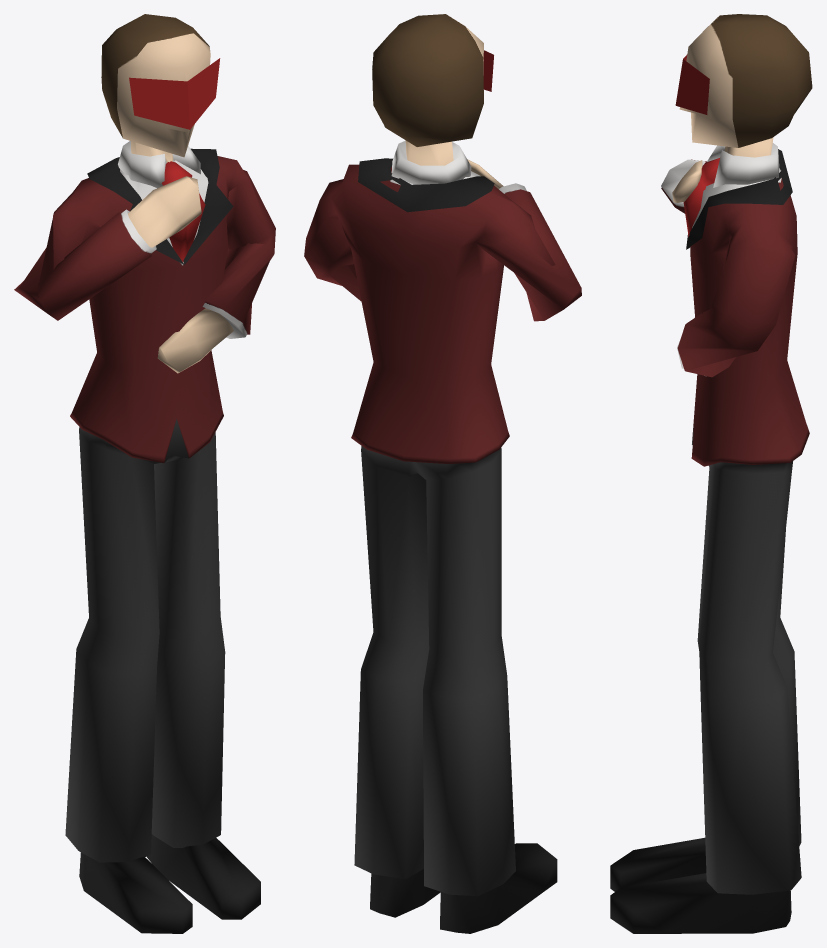
File: Character5.fbx
The picture shows the model from 3 angles, left to right: view 1: azimuth 30°, elevation 25°; view 2: azimuth 150°, elevation 25°; view 3: azimuth 270°, elevation 25°; orthographic projection. The views are drawn at different scales.
Visible parts, largest first — view 1: CHARA_Base.005, CHARA_Base_Head.005, CHARA_Base_Mask.005; view 2: CHARA_Base.005, CHARA_Base_Head.005; view 3: CHARA_Base.005, CHARA_Base_Head.005, CHARA_Base_Mask.005.
Boxes of the visible parts, x1=… form: CHARA_Base.005: x1=14, y1=141, x2=275, y2=933; CHARA_Base_Head.005: x1=101, y1=14, x2=210, y2=157; CHARA_Base_Mask.005: x1=129, y1=58, x2=220, y2=129; CHARA_Base.005: x1=304, y1=140, x2=581, y2=933; CHARA_Base_Head.005: x1=372, y1=14, x2=483, y2=146; CHARA_Base.005: x1=610, y1=137, x2=809, y2=933; CHARA_Base_Head.005: x1=679, y1=14, x2=812, y2=147; CHARA_Base_Mask.005: x1=675, y1=54, x2=709, y2=114.
Bounding box in the file's own units: 62.65 × 201 × 41.48.
